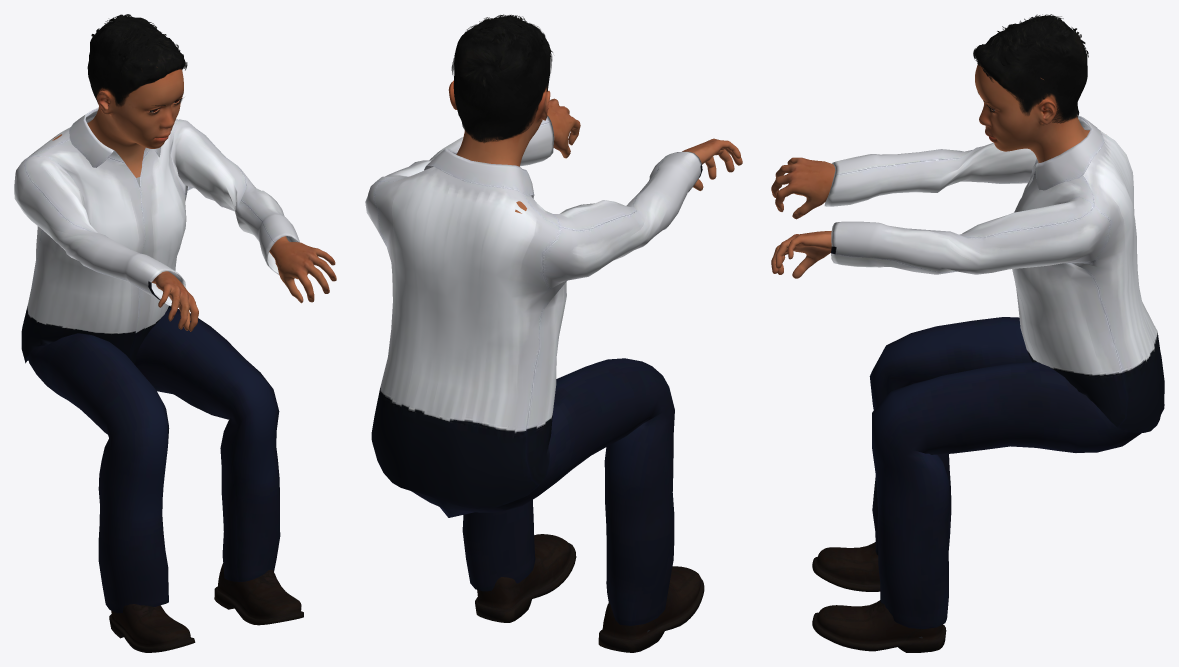
The model's file is b3_sit_talk.glb.
3 renders of one model, left to right at view 1: azimuth 30°, elevation 25°; view 2: azimuth 150°, elevation 25°; view 3: azimuth 270°, elevation 25°, orthographic. The views are drawn at different scales.
Visible parts, largest first — view 1: b3.male_casualsuit03, b3, b3.shoes01, b3.short01; view 2: b3.male_casualsuit03, b3.short01, b3.shoes01, b3; view 3: b3.male_casualsuit03, b3, b3.short01, b3.shoes01.
Boxes of the visible parts, x1,y1,x2,y2 form: b3.male_casualsuit03: [14, 107, 300, 613]; b3: [52, 69, 336, 331]; b3.shoes01: [109, 563, 303, 652]; b3.short01: [87, 14, 187, 106]; b3.male_casualsuit03: [365, 116, 702, 625]; b3.short01: [451, 14, 552, 142]; b3.shoes01: [475, 534, 704, 652]; b3: [448, 80, 742, 213]; b3.male_casualsuit03: [824, 116, 1164, 629]; b3: [771, 64, 1089, 278]; b3.short01: [973, 14, 1088, 123]; b3.shoes01: [812, 542, 946, 652].
Size of the model in its own units: 0.4325 by 1.14 by 0.683.
Materials: 7 (7 with a texture image).
